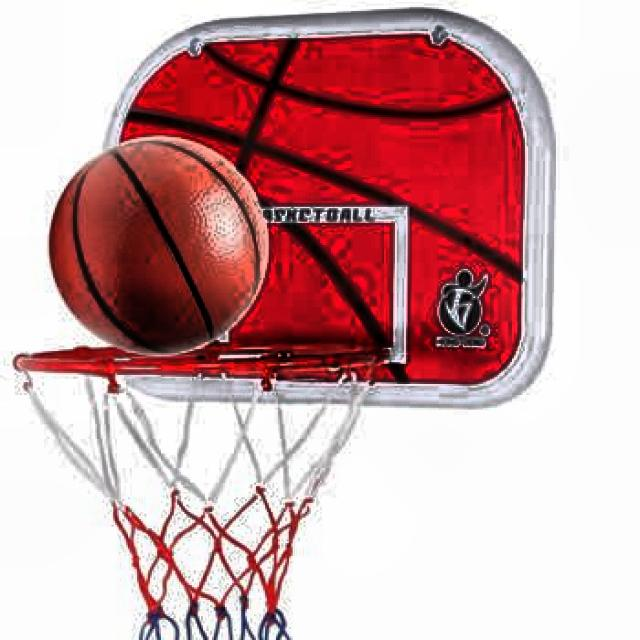board: (48, 136, 268, 356)
rim: (12, 349, 379, 640)
